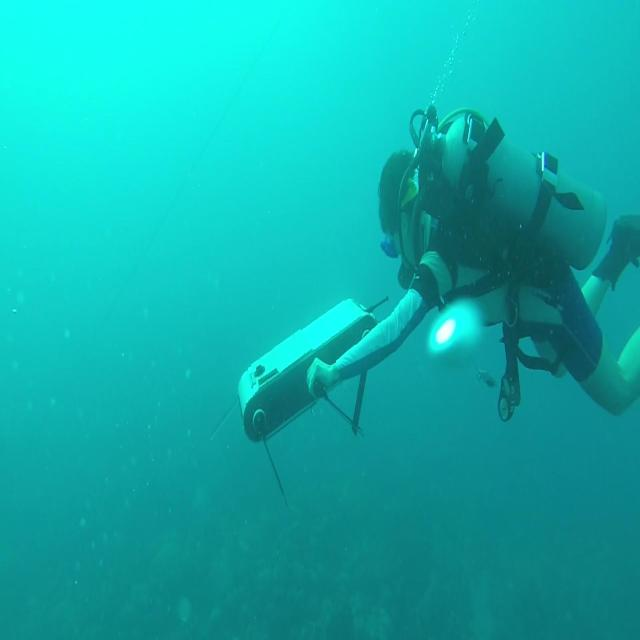human: (305, 104, 639, 424)
